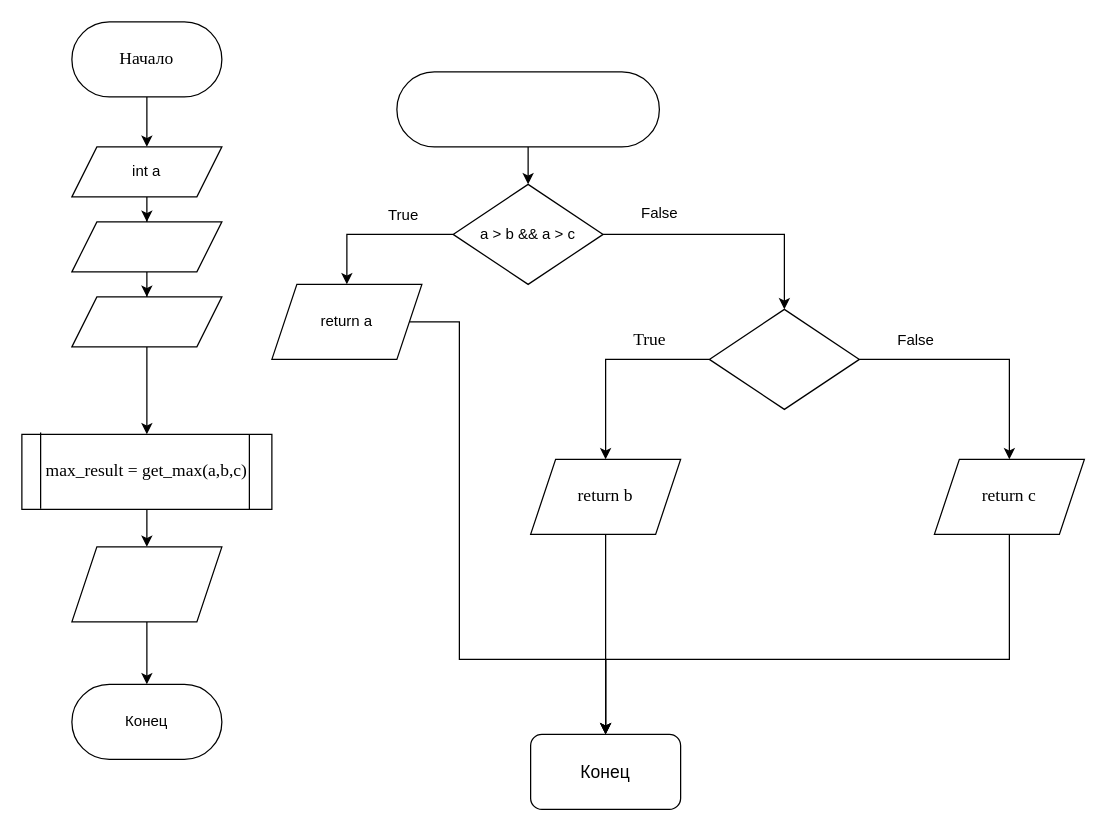
The diagram is 1106 pixels wide and 831 high, and some of its shapes have lost their labels. The shapes that lost their labels are listed below. From the top down, each one's centre as x and y in pixels, then its label:
(527,109): get_max(int a, int b, int c)
(146,246): int b
(146,321): int c
(783,358): b > a && b > c
(146,584): max_result
